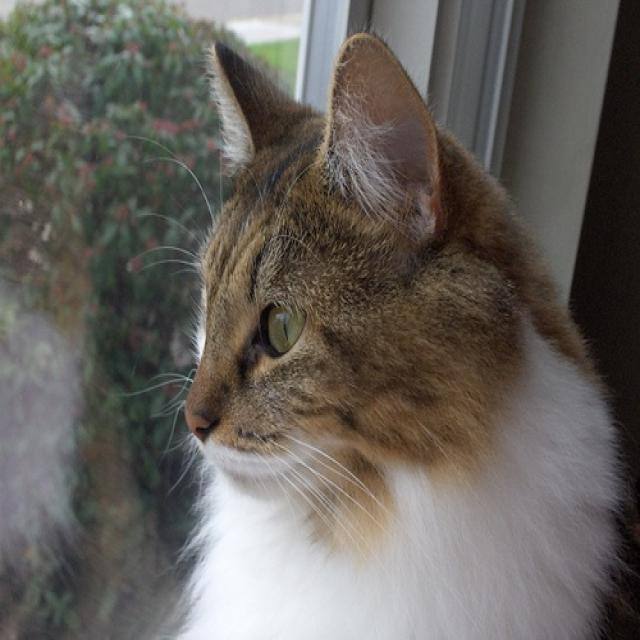cat: (182, 33, 622, 638)
